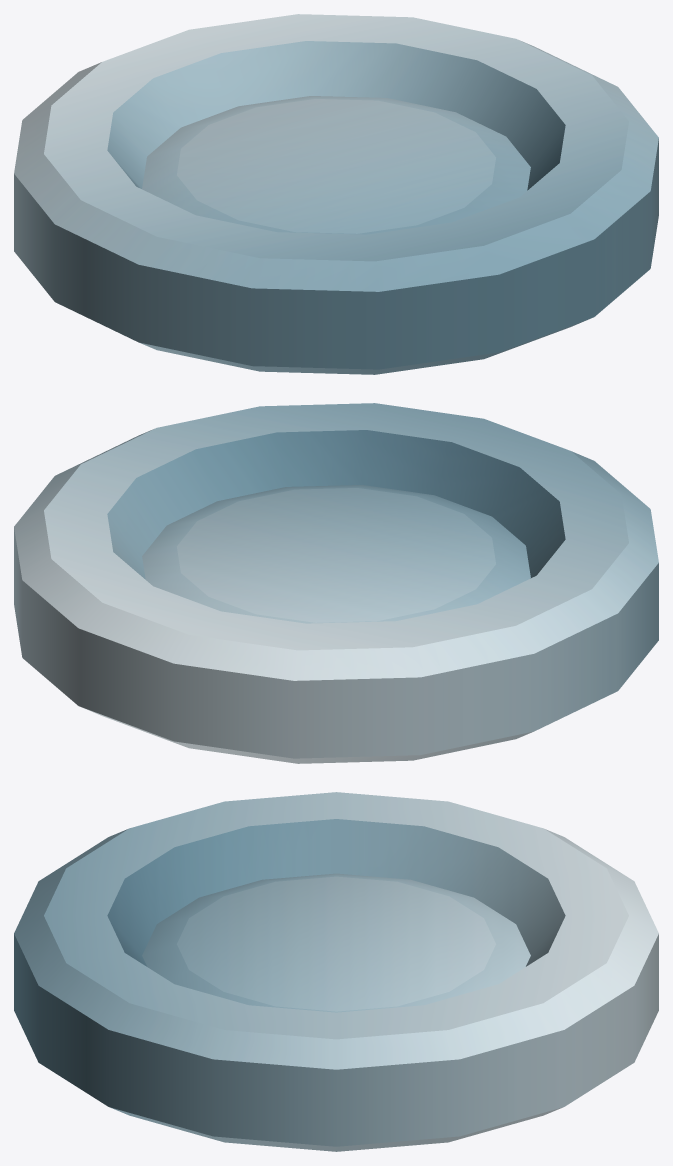
File: coin-silver.glb
3 renders of one model, top to bottom at view 1: azimuth 30°, elevation 25°; view 2: azimuth 150°, elevation 25°; view 3: azimuth 270°, elevation 25°, orthographic.
Visible parts, largest first — view 1: coin_silver; view 2: coin_silver; view 3: coin_silver.
Part boxes in pixels (x1,y1,x2,y2): coin_silver: [14, 14, 658, 374]; coin_silver: [14, 403, 658, 763]; coin_silver: [14, 792, 658, 1151].
Size of the model in its own units: 1.04 by 0.2 by 1.04.
1 material, 1 textured.
